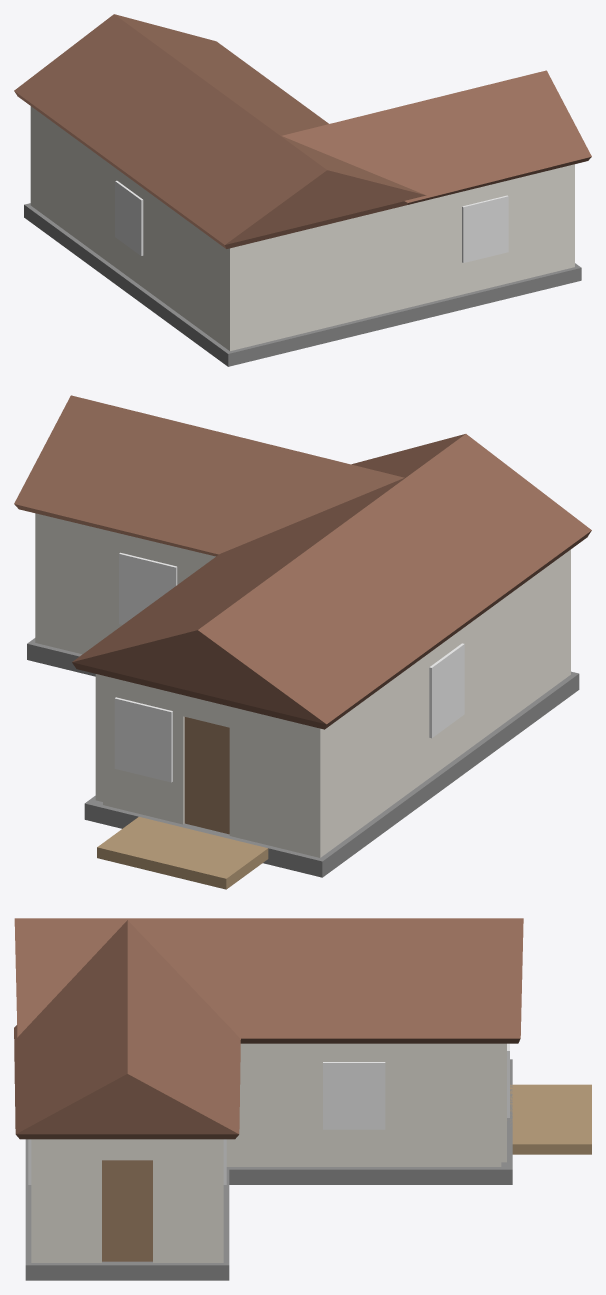
The model's file is l-shaped-model-one-floor.glb.
The picture shows the model from 3 angles, top to bottom: view 1: azimuth 30°, elevation 25°; view 2: azimuth 150°, elevation 25°; view 3: azimuth 270°, elevation 25°; orthographic projection. The views are drawn at different scales.
Visible parts, largest first — view 1: Roof_Main_Gable, Roof_Extension_Gable, Left_Wall_Main_F1, Back_Wall_Main_Left_F1, Back_Wall_Extension_F1, Foundation_L_Shaped, Window_F1_Back_Ext_Frame, Window_F1_Left_Main_Frame; view 2: Roof_Main_Gable, Roof_Extension_Gable, Left_Wall_Main_F1, Front_Wall_Main_F1, Front_Wall_Extension_F1, Foundation_L_Shaped, Terrace, Door, Window_F1_Front_Main_Frame, Window_F1_Front_Ext_Frame, Window_F1_Left_Main_Frame, Right_Wall_Main_Upper_F1 (+1 smaller); view 3: Roof_Main_Gable, Roof_Extension_Gable, Right_Wall_Main_Upper_F1, Right_Wall_Extension_F1, Foundation_L_Shaped, Terrace, Door_Side, Window_F1_Right_Main_Frame, Front_Wall_Main_F1.
Part boxes in pixels (x1=…): Roof_Main_Gable: x1=14, y1=14, x2=426, y2=248; Roof_Extension_Gable: x1=282, y1=70, x2=591, y2=204; Left_Wall_Main_F1: x1=30, y1=106, x2=237, y2=350; Back_Wall_Main_Left_F1: x1=234, y1=205, x2=406, y2=349; Back_Wall_Extension_F1: x1=398, y1=165, x2=570, y2=309; Foundation_L_Shaped: x1=24, y1=203, x2=581, y2=366; Window_F1_Back_Ext_Frame: x1=462, y1=195, x2=508, y2=262; Window_F1_Left_Main_Frame: x1=115, y1=180, x2=143, y2=255; Roof_Main_Gable: x1=72, y1=434, x2=591, y2=729; Roof_Extension_Gable: x1=14, y1=395, x2=404, y2=556; Left_Wall_Main_F1: x1=310, y1=549, x2=570, y2=857; Front_Wall_Main_F1: x1=103, y1=675, x2=309, y2=855; Front_Wall_Extension_F1: x1=40, y1=514, x2=215, y2=654; Foundation_L_Shaped: x1=27, y1=638, x2=579, y2=877; Terrace: x1=97, y1=817, x2=268, y2=889; Door: x1=184, y1=717, x2=229, y2=834; Window_F1_Front_Main_Frame: x1=114, y1=697, x2=172, y2=782; Window_F1_Front_Ext_Frame: x1=119, y1=552, x2=177, y2=624; Window_F1_Left_Main_Frame: x1=429, y1=643, x2=464, y2=738; Right_Wall_Main_Upper_F1: x1=95, y1=674, x2=102, y2=801; Roof_Main_Gable: x1=14, y1=918, x2=523, y2=1043; Roof_Extension_Gable: x1=14, y1=920, x2=240, y2=1139; Right_Wall_Main_Upper_F1: x1=226, y1=1043, x2=501, y2=1166; Right_Wall_Extension_F1: x1=31, y1=1139, x2=223, y2=1262; Foundation_L_Shaped: x1=25, y1=1059, x2=512, y2=1280; Terrace: x1=510, y1=1084, x2=591, y2=1154; Door_Side: x1=102, y1=1160, x2=152, y2=1261; Window_F1_Right_Main_Frame: x1=323, y1=1062, x2=385, y2=1129; Front_Wall_Main_F1: x1=501, y1=1043, x2=506, y2=1162.
Size of the model in its own units: 8.96 by 4.12 by 10.2.
